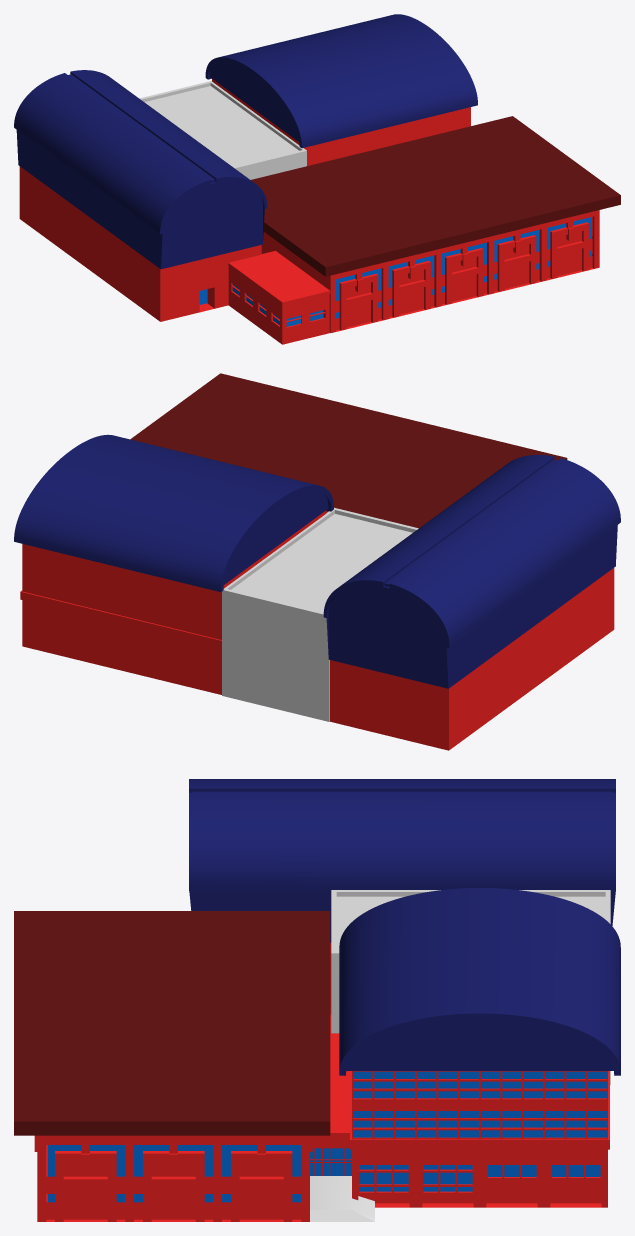
Rendered from 체육관.fbx.
The picture shows the model from 3 angles, top to bottom: view 1: azimuth 30°, elevation 25°; view 2: azimuth 150°, elevation 25°; view 3: azimuth 270°, elevation 25°; orthographic projection. The views are drawn at different scales.
Visible parts, largest first — view 1: Cube_9, Cylinder_1, Cylinder, Cube_2, Cube_4, Cube_10, Cube_6, Cube_3, Cube_7, inside; view 2: Cylinder_1, Cylinder, Cube_9, Cube_3, Cube_10, Cube_4; view 3: Cube_9, Cylinder_1, Cylinder, Cube_3, Cube_2, Cube_92, Cube_10, Cube_93, inside, Cube_5, Cube_11, inside_4.
Part boxes in pixels (x1,y1,x2,y2): Cube_9: [251, 116, 620, 276]; Cylinder_1: [14, 70, 267, 269]; Cylinder: [205, 14, 477, 148]; Cube_2: [261, 210, 599, 332]; Cube_4: [19, 166, 261, 321]; Cube_10: [139, 81, 306, 179]; Cube_6: [228, 266, 329, 344]; Cube_3: [212, 79, 470, 165]; Cube_7: [228, 251, 330, 304]; inside: [336, 217, 591, 318]; Cylinder_1: [323, 455, 620, 688]; Cylinder: [14, 434, 333, 592]; Cube_9: [130, 373, 567, 528]; Cube_3: [20, 510, 326, 694]; Cube_10: [222, 507, 418, 721]; Cube_4: [330, 568, 614, 750]; Cube_9: [14, 911, 330, 1135]; Cylinder_1: [189, 779, 615, 942]; Cylinder: [339, 888, 620, 1075]; Cube_3: [350, 1071, 609, 1207]; Cube_2: [34, 1135, 312, 1221]; Cube_92: [353, 1071, 606, 1137]; Cube_10: [331, 890, 610, 1085]; Cube_93: [359, 1165, 600, 1191]; inside: [47, 1145, 301, 1202]; Cube_5: [310, 1014, 351, 1175]; Cube_11: [310, 1176, 374, 1221]; inside_4: [310, 1148, 351, 1175].
Size of the model in its own units: 1293 by 456 by 1159.
